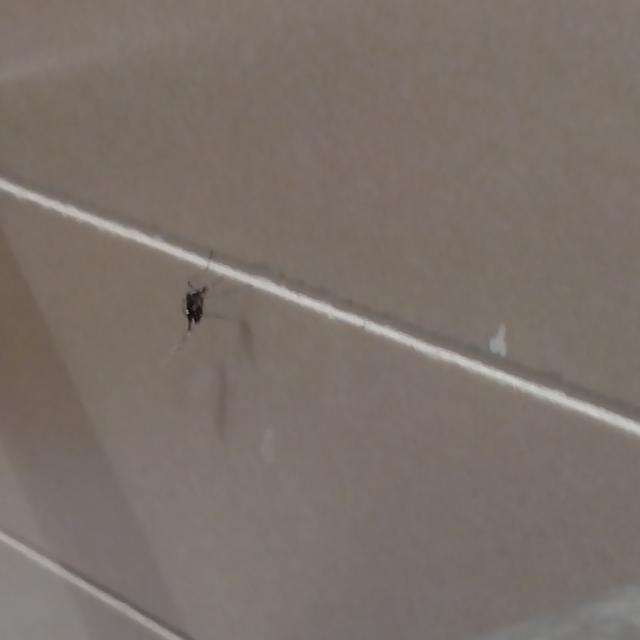albopictus: (162, 278, 217, 344)
